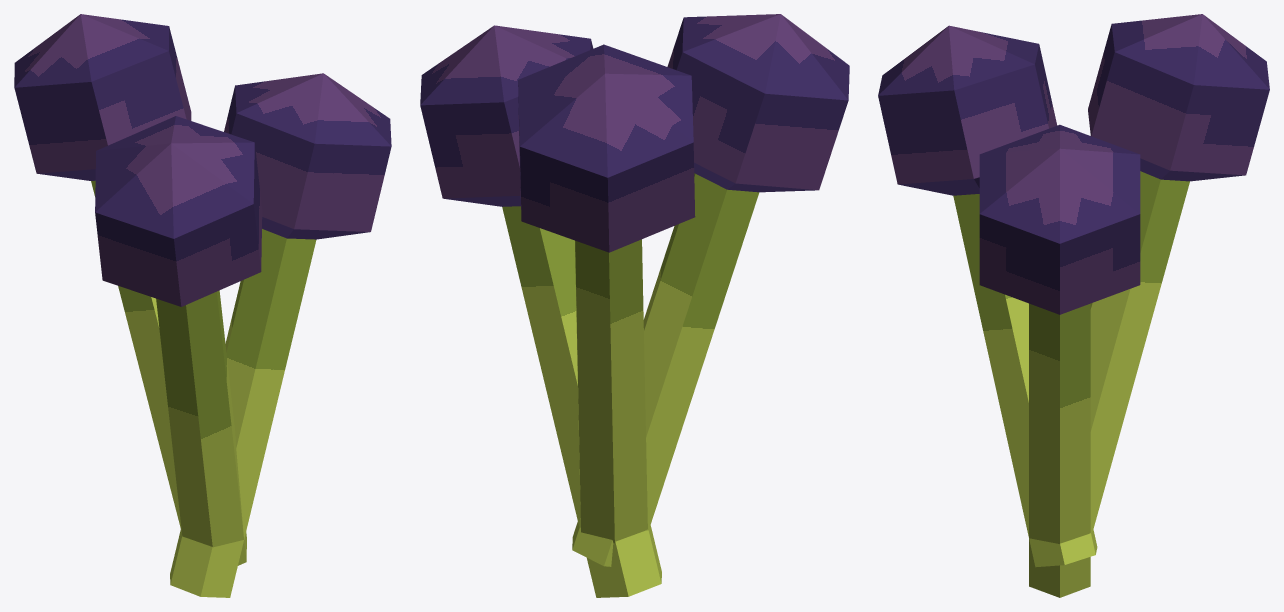
The model's file is rattle_plant.gltf.
The picture shows the model from 3 angles, left to right: view 1: azimuth 30°, elevation 25°; view 2: azimuth 150°, elevation 25°; view 3: azimuth 270°, elevation 25°; orthographic projection. The views are drawn at different scales.
Visible parts, largest first — view 1: sphere (×3), cylinder (×3); view 2: sphere (×3), cylinder (×3); view 3: sphere (×3), cylinder (×3).
Part boxes in pixels (x1,y1,x2,y2): sphere (×3): [14, 14, 391, 306]; cylinder (×3): [91, 180, 316, 597]; sphere (×3): [420, 14, 849, 252]; cylinder (×3): [502, 173, 759, 597]; sphere (×3): [878, 14, 1269, 314]; cylinder (×3): [953, 171, 1189, 597].
Size of the model in its own units: 0.8084 by 1.22 by 0.7923.
Materials: 1 (1 with a texture image).
